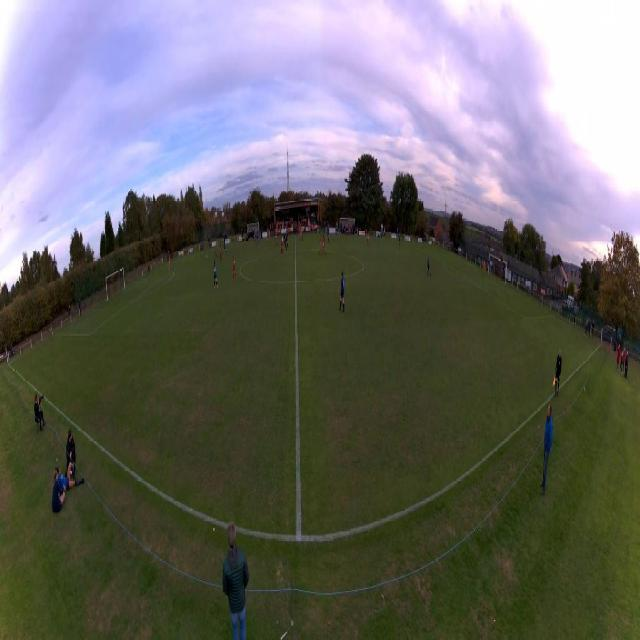ball: (206, 255, 207, 259)
player: (338, 272, 347, 313), (213, 261, 218, 290), (232, 255, 237, 282), (427, 254, 431, 278), (322, 234, 326, 255), (214, 242, 218, 259), (283, 234, 287, 251), (335, 221, 339, 238), (223, 239, 227, 255), (257, 232, 261, 248), (299, 224, 303, 240), (279, 226, 283, 241), (220, 245, 223, 263), (286, 230, 289, 248), (327, 225, 330, 243), (367, 231, 370, 248), (275, 230, 278, 247), (281, 235, 283, 254), (483, 260, 485, 277), (168, 259, 170, 273), (267, 229, 269, 243), (399, 233, 401, 247)
